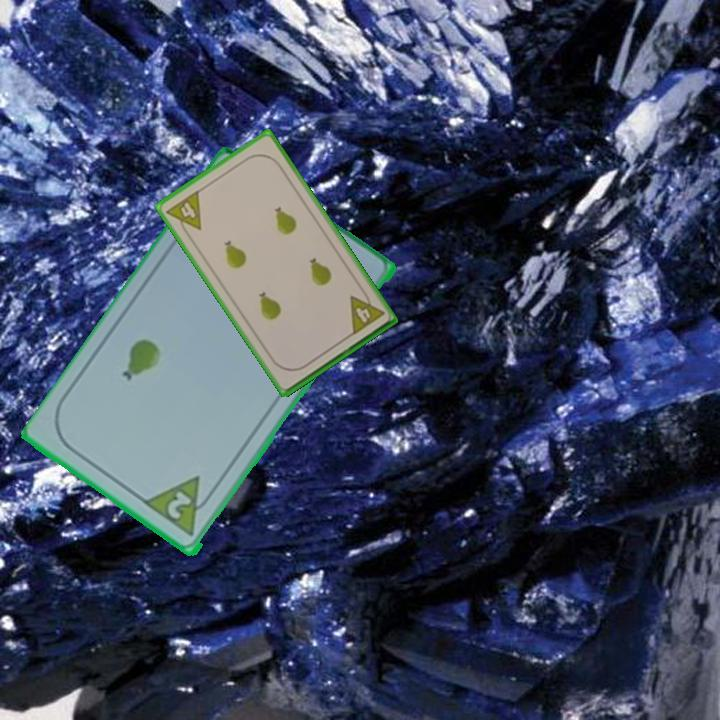2p: (163, 488, 195, 523)
4p: (163, 186, 204, 240), (346, 286, 387, 338)
